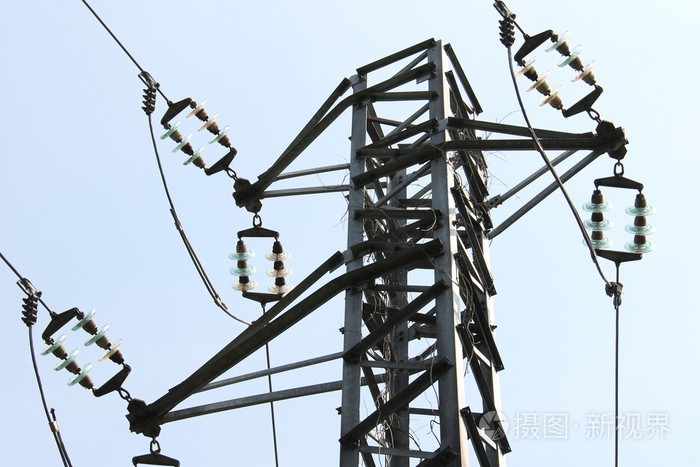insulator: (544, 29, 597, 86), (41, 332, 92, 390), (511, 55, 565, 107), (74, 309, 123, 364), (187, 97, 231, 148), (162, 120, 201, 169), (624, 202, 658, 257), (583, 197, 614, 253), (266, 247, 294, 297), (228, 247, 257, 294)
